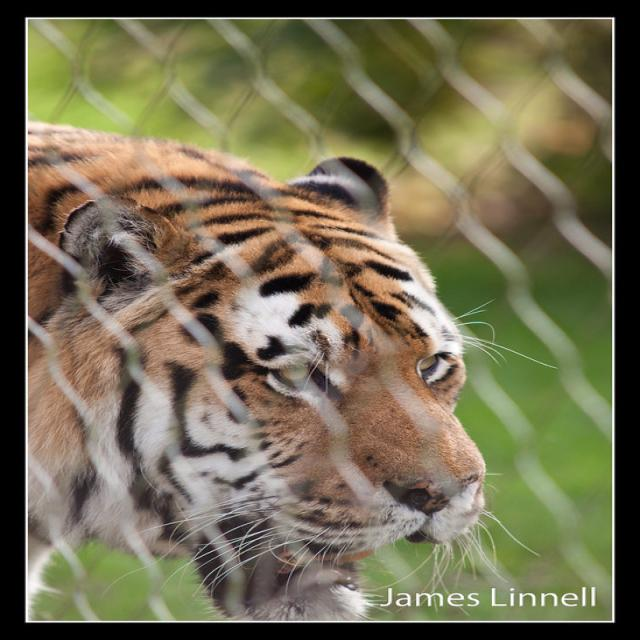Tiger: (26, 126, 483, 619)
